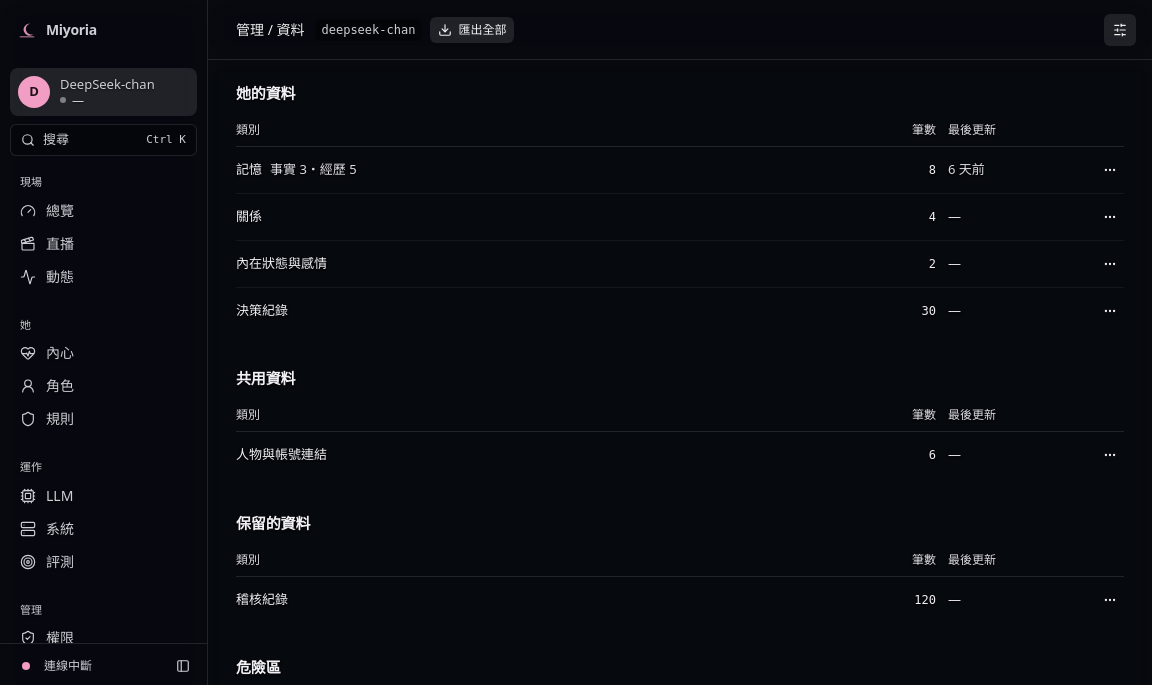
Test: Data › a delete needs the typed profile id and names what goes along
Click the button named "人物與帳號連結 的動作" at point(1110, 455), box [1096,441,1124,469]
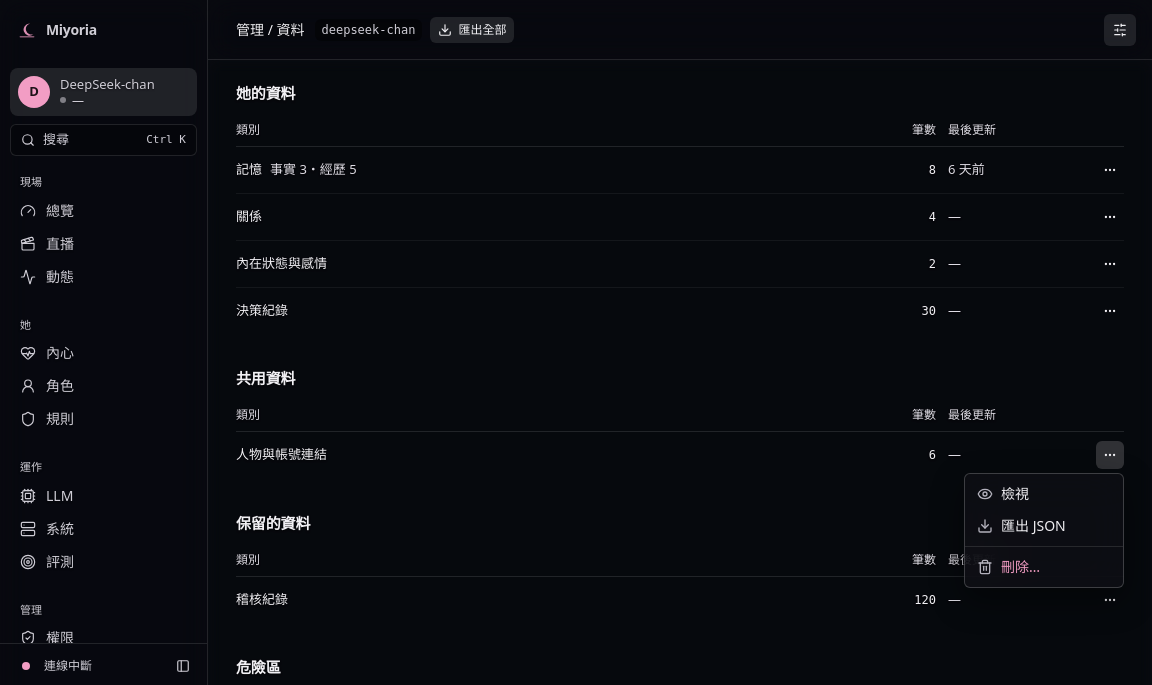
Click the menu item "刪除…" at point(1009, 566), box [977,557,1040,576]
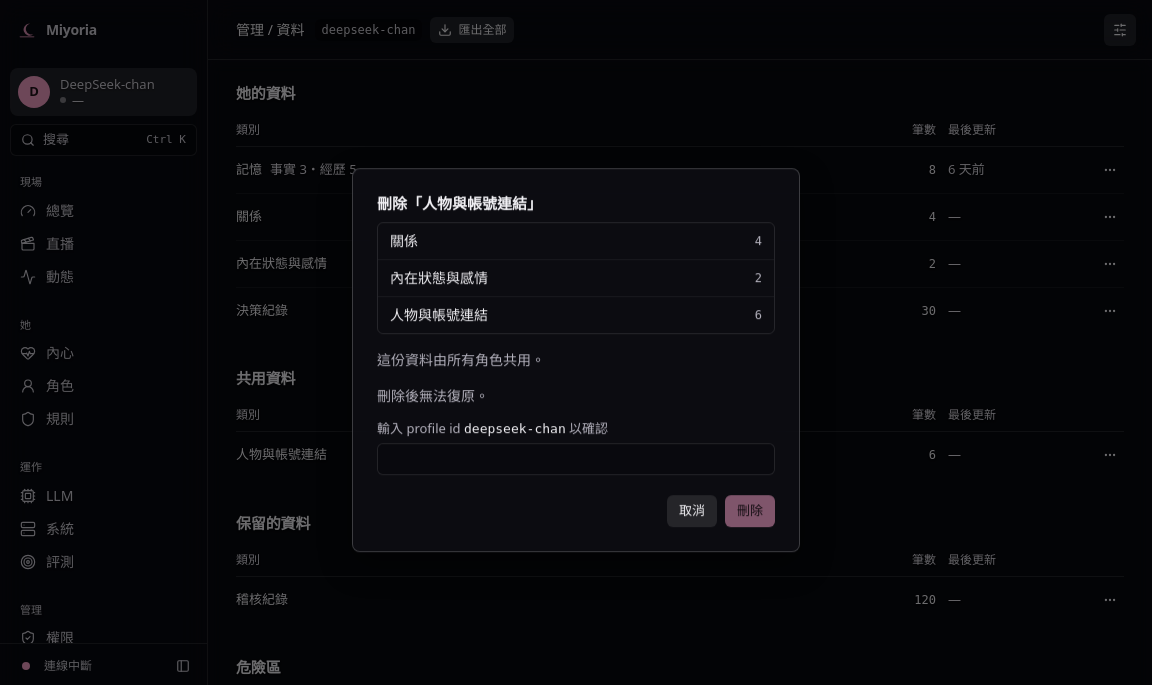
Check: the list items read "關係4", "內在狀態與感情2", "人物與帳號連結6", in this order, box [378,223,774,260]; [378,260,774,297]; [390,305,762,324]
Check: the text "這份資料由所有角色共用。" is shown, box [377,350,545,369]
Check: the button "刪除" is disabled, box [725,495,775,527]
Type "deepseek" into the field labelled "輸入 profile id deepseek-chan 以確認" at point(576, 459), box [377,443,775,475]
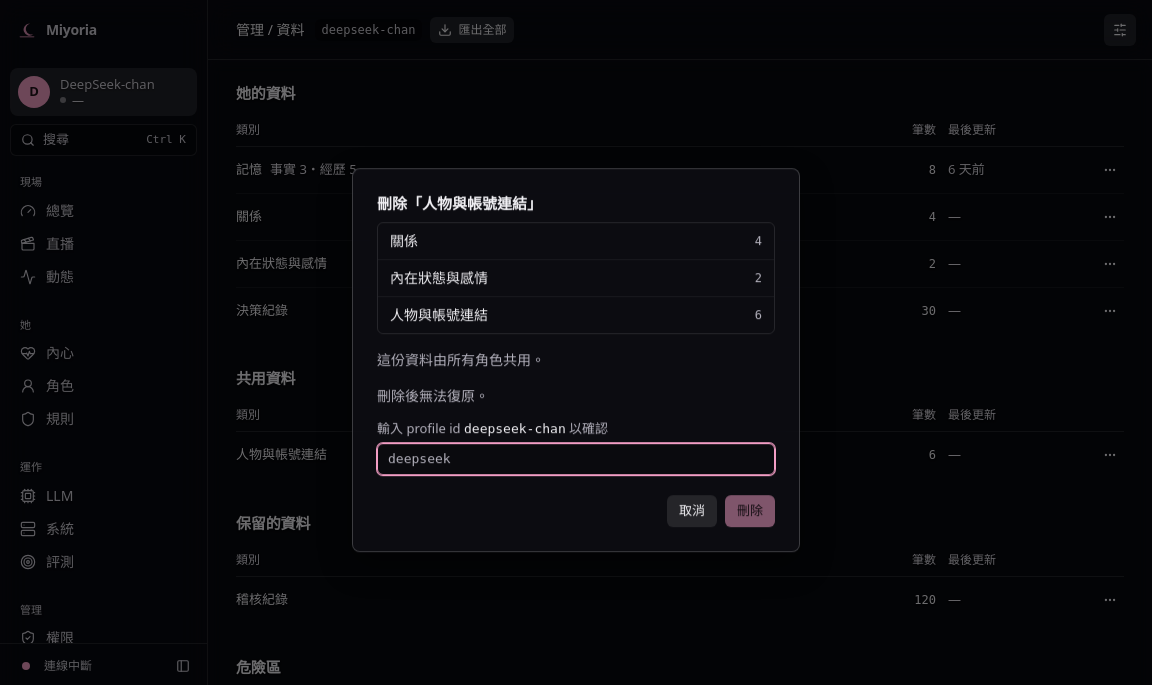
Check: the button "刪除" is disabled, box [725,495,775,527]
Type "-chan" into the field labelled "輸入 profile id deepseek-chan 以確認" at point(576, 459), box [377,443,775,475]
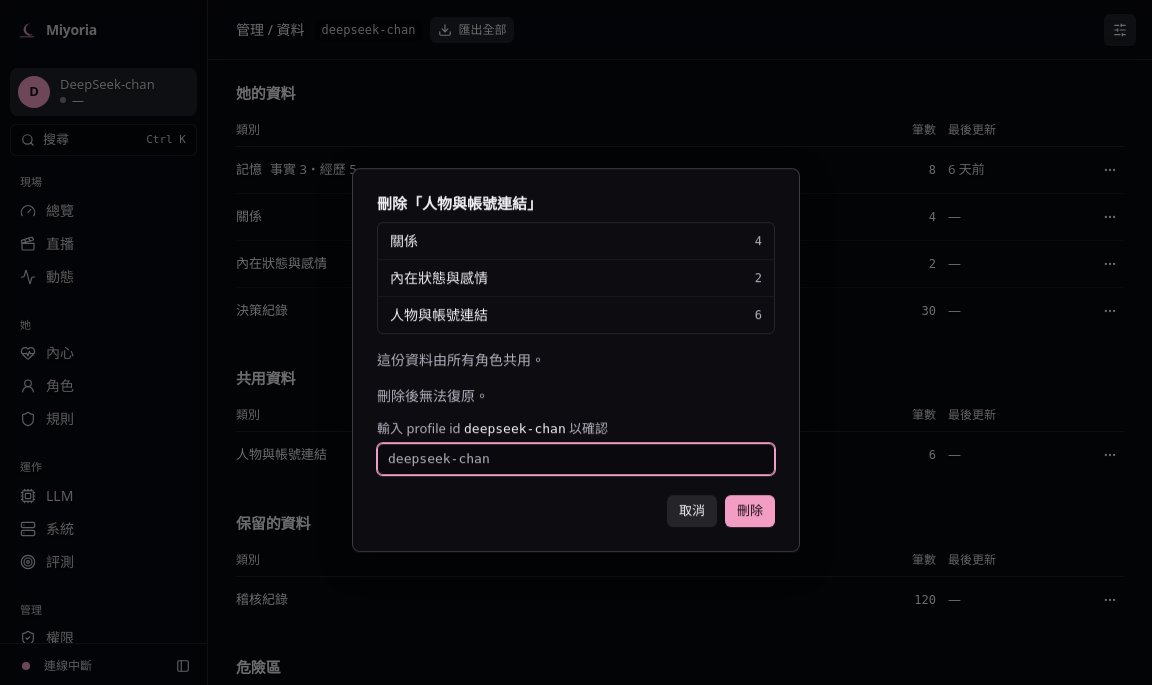
Check: the button "刪除" is enabled
Click the button "刪除" at point(750, 511), box [725,495,775,527]
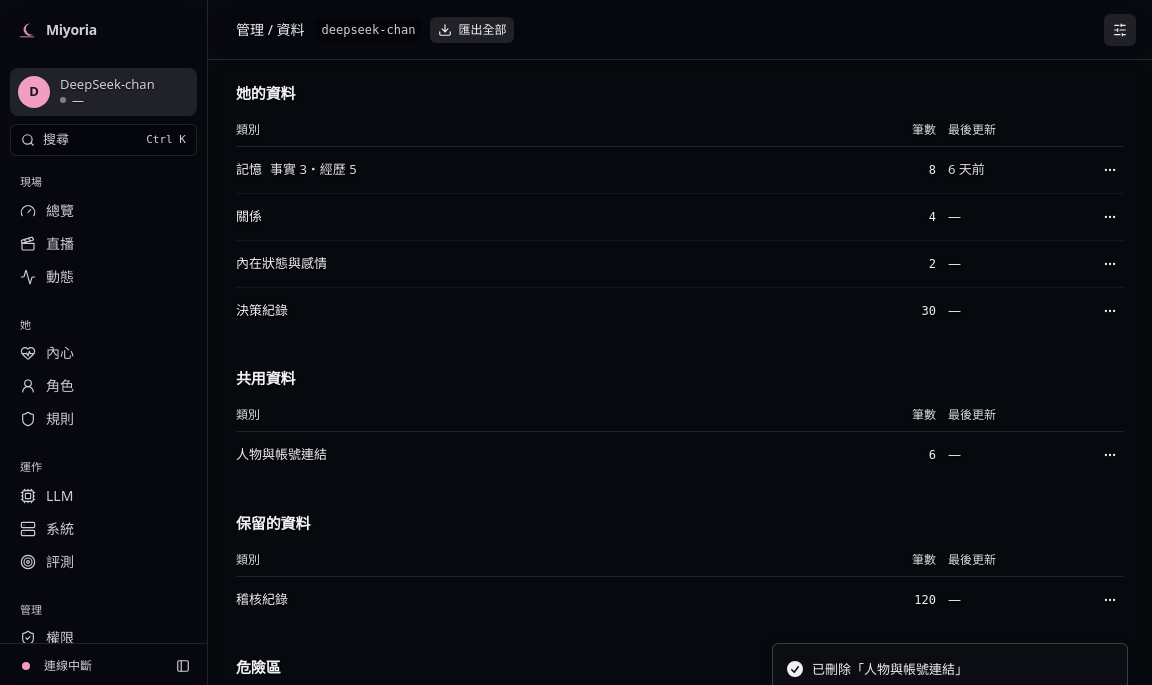
Check: the text "已刪除「人物與帳號連結」" is shown, box [812,660,968,679]
Check: the dialog is gone
